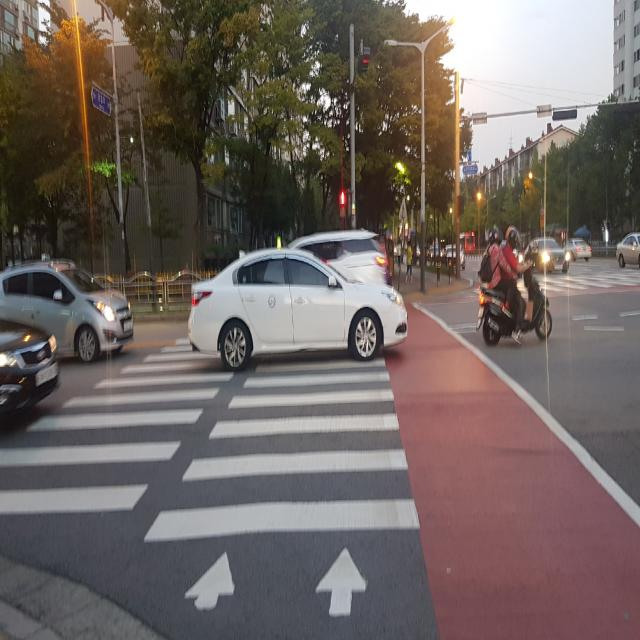빨간불: (339, 187, 349, 217)
횡단보도: (0, 335, 421, 621)
